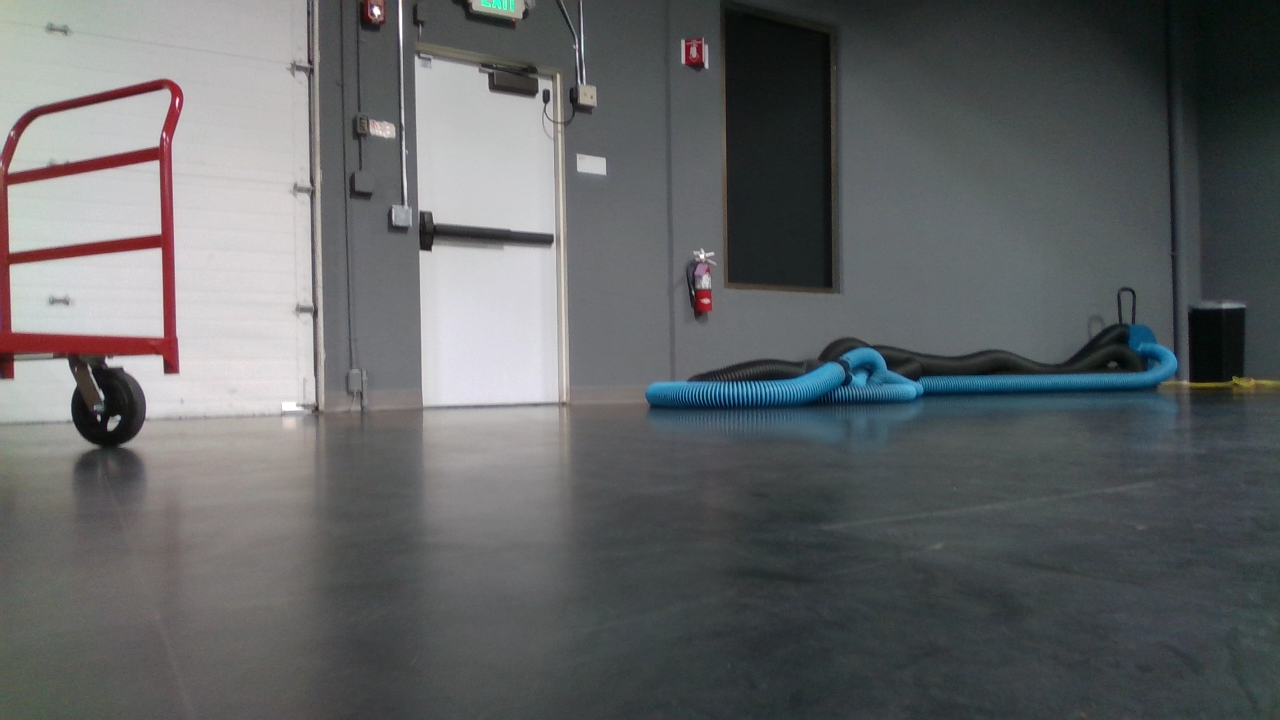Dolly: (0, 68, 188, 470)
Wheel: (69, 363, 150, 450)
